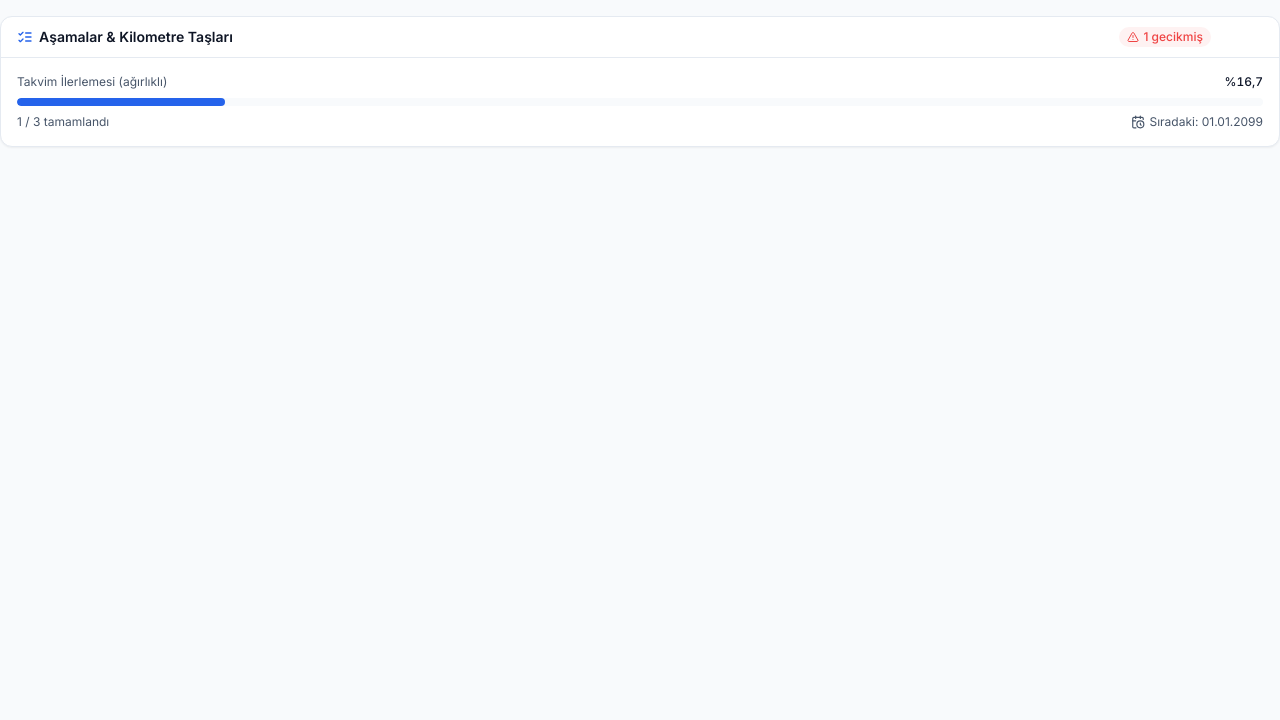
Scenario: MilestonesCard manager › shows a retryable error when the list fails to load
Click the text "Aşamalar & Kilometre Taşları" at (125, 37), box top-left (17, 27), bottom-right (233, 47)
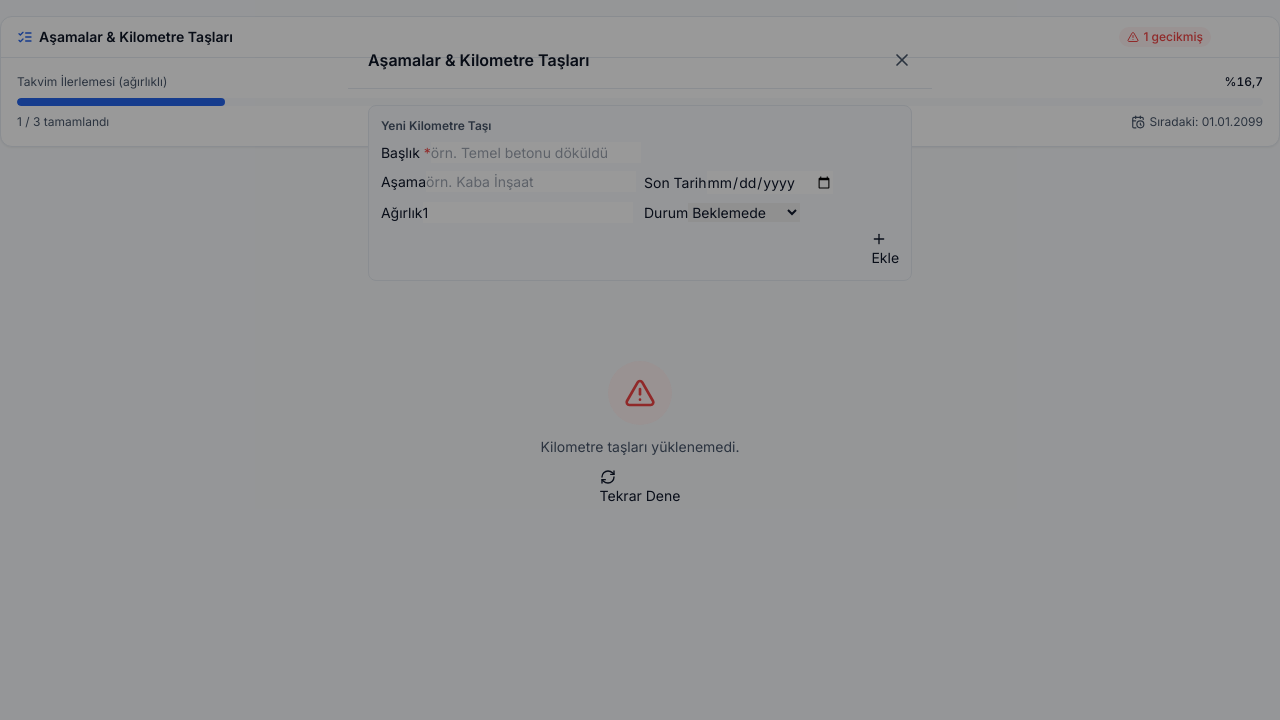
Now the text "Kilometre taşları yüklenemedi." is shown, box top-left (540, 437), bottom-right (740, 457)
